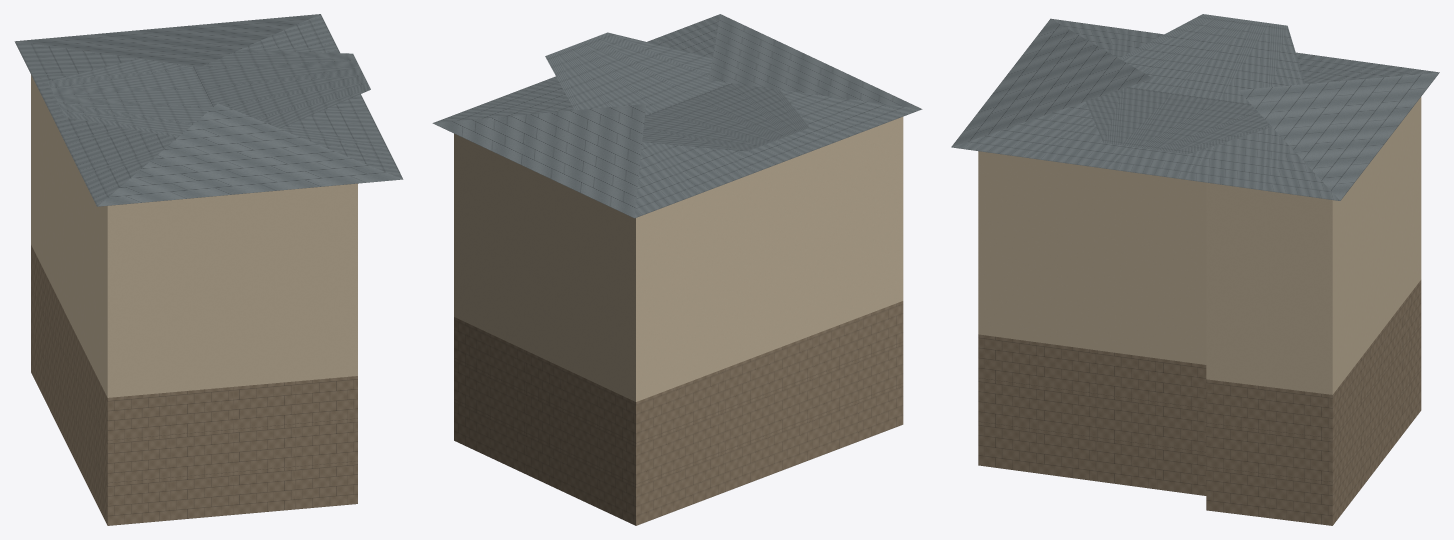
The model's file is bld_c36_-26_440.gltf.
The picture shows the model from 3 angles, left to right: view 1: azimuth 30°, elevation 25°; view 2: azimuth 150°, elevation 25°; view 3: azimuth 270°, elevation 25°; orthographic projection. The views are drawn at different scales.
Visible parts, largest first — view 1: bld_c36_-26_440; view 2: bld_c36_-26_440; view 3: bld_c36_-26_440.
Part boxes in pixels (<box>): bld_c36_-26_440: <box>14,14,403,525</box>; bld_c36_-26_440: <box>432,14,922,525</box>; bld_c36_-26_440: <box>951,14,1439,525</box>.
Size of the model in its own units: 15.23 by 14 by 17.24.
3 materials, 3 textured.
